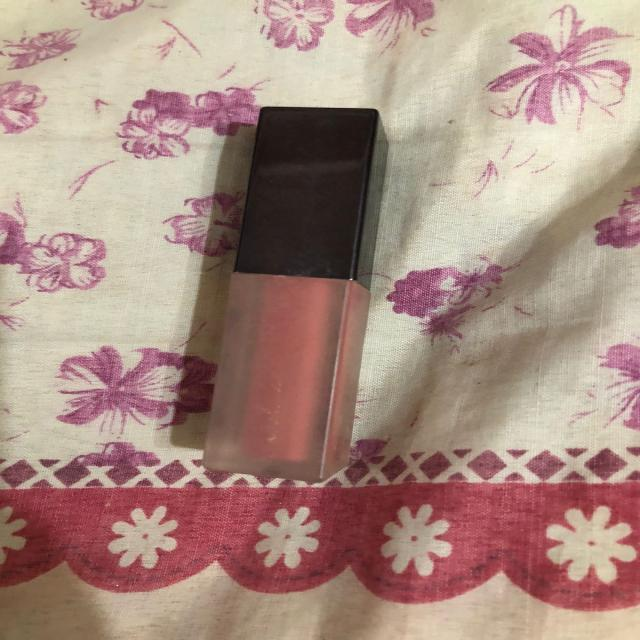lip gloss: (159, 71, 422, 499)
